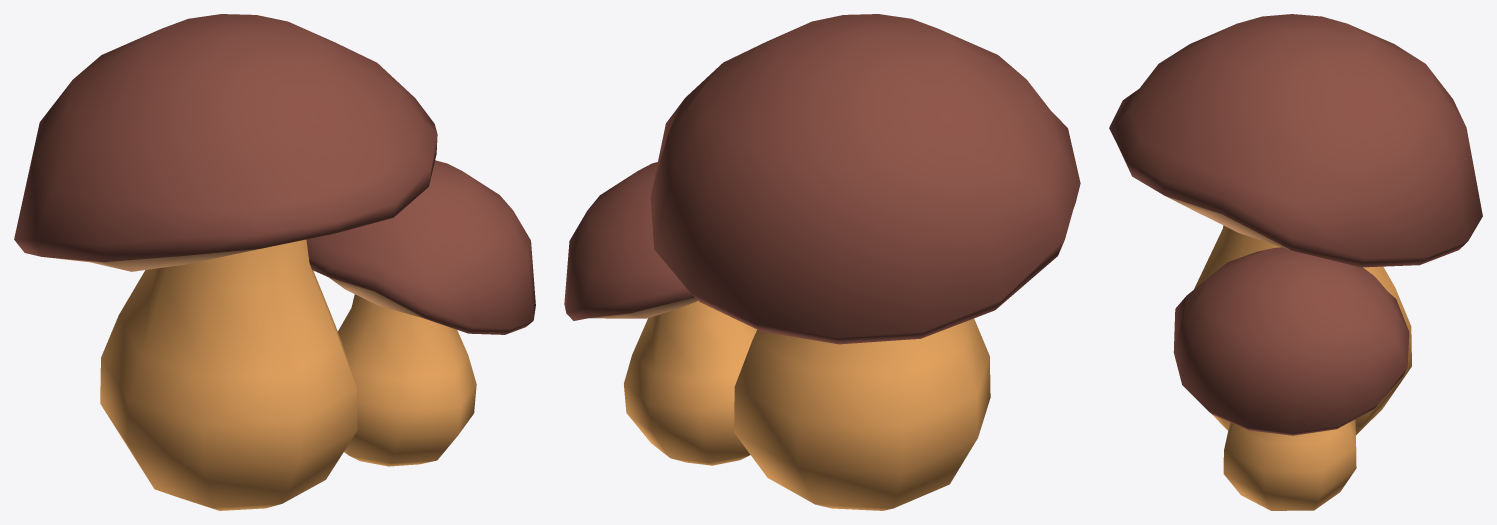
The model's file is Mushroom_02.1.fbx.
The picture shows the model from 3 angles, left to right: view 1: azimuth 30°, elevation 25°; view 2: azimuth 150°, elevation 25°; view 3: azimuth 270°, elevation 25°; orthographic projection. The views are drawn at different scales.
Visible parts, largest first — view 1: Mushroom_02.1; view 2: Mushroom_02.1; view 3: Mushroom_02.1.
Boxes of the visible parts, bbox=[...] form: Mushroom_02.1: bbox=[14, 14, 535, 510]; Mushroom_02.1: bbox=[564, 14, 1080, 510]; Mushroom_02.1: bbox=[1109, 14, 1482, 510].
Bounding box in the file's own units: 46.32 × 35.62 × 41.86.
